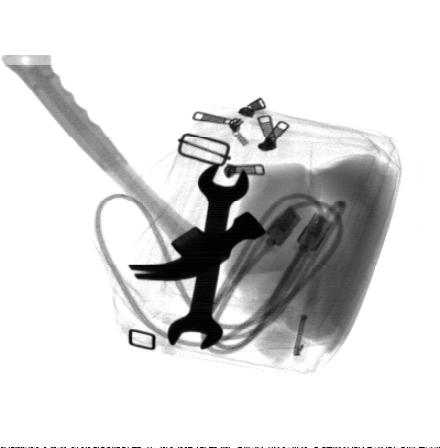Hammer: (2, 55, 267, 281)
Wrench: (167, 161, 249, 350)
